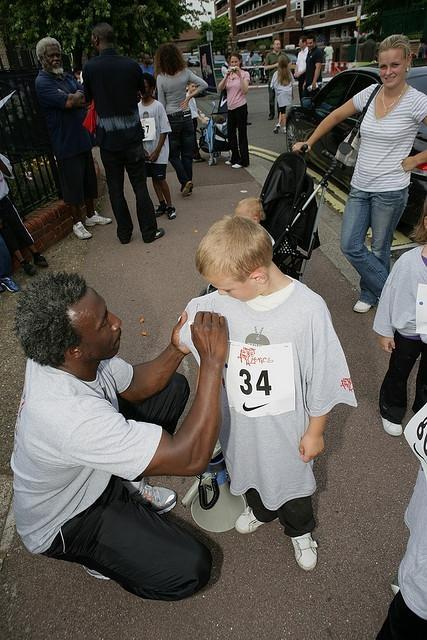car: (286, 60, 427, 224), (214, 55, 227, 68), (186, 56, 200, 68)
